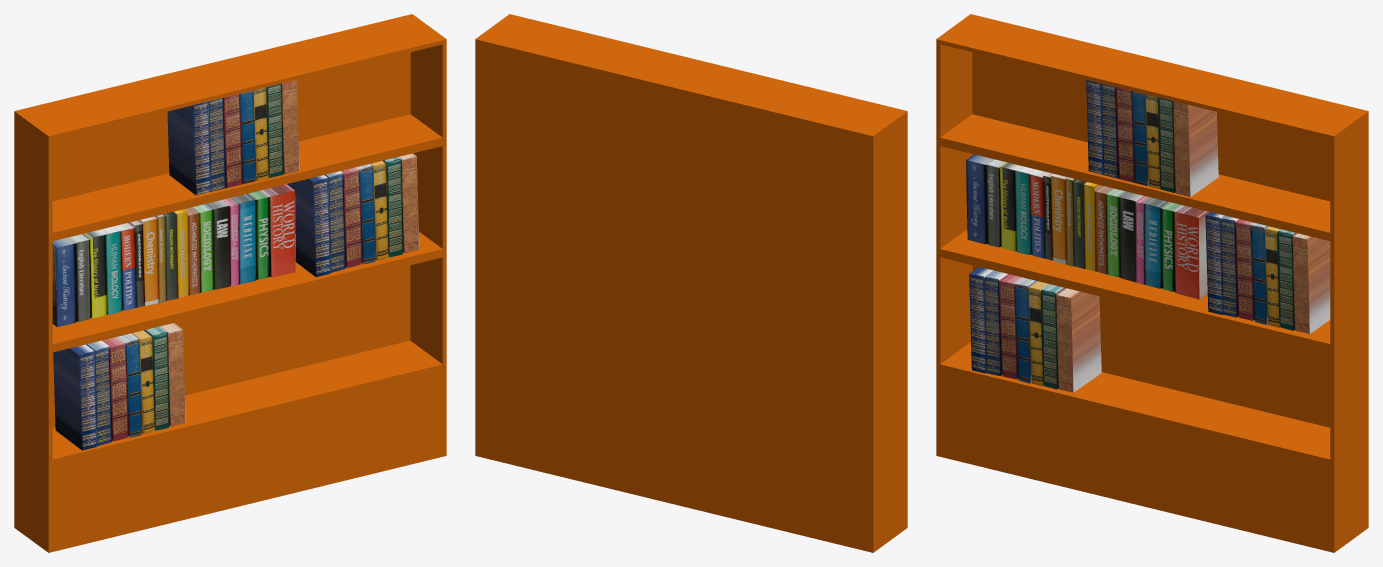
The model's file is bookcase.glb.
3 renders of one model, left to right at view 1: azimuth 30°, elevation 25°; view 2: azimuth 150°, elevation 25°; view 3: azimuth 330°, elevation 25°, orthographic.
Visible parts, largest first — view 1: Cube, books1, books.002, books.001, books; view 2: Cube; view 3: Cube, books1, books.002, books.001, books.
Boxes of the visible parts, x1=… form: Cube: x1=14, y1=14, x2=446, y2=552; books1: x1=52, y1=184, x2=295, y2=326; books.002: x1=53, y1=323, x2=185, y2=450; books.001: x1=287, y1=153, x2=419, y2=276; books: x1=167, y1=80, x2=299, y2=195; Cube: x1=475, y1=14, x2=907, y2=552; Cube: x1=936, y1=14, x2=1368, y2=552; books1: x1=966, y1=154, x2=1209, y2=299; books.002: x1=969, y1=267, x2=1101, y2=392; books.001: x1=1205, y1=212, x2=1330, y2=333; books: x1=1086, y1=80, x2=1218, y2=196.
Size of the model in its own units: 8 by 8 by 1.2.
5 materials, 4 textured.
